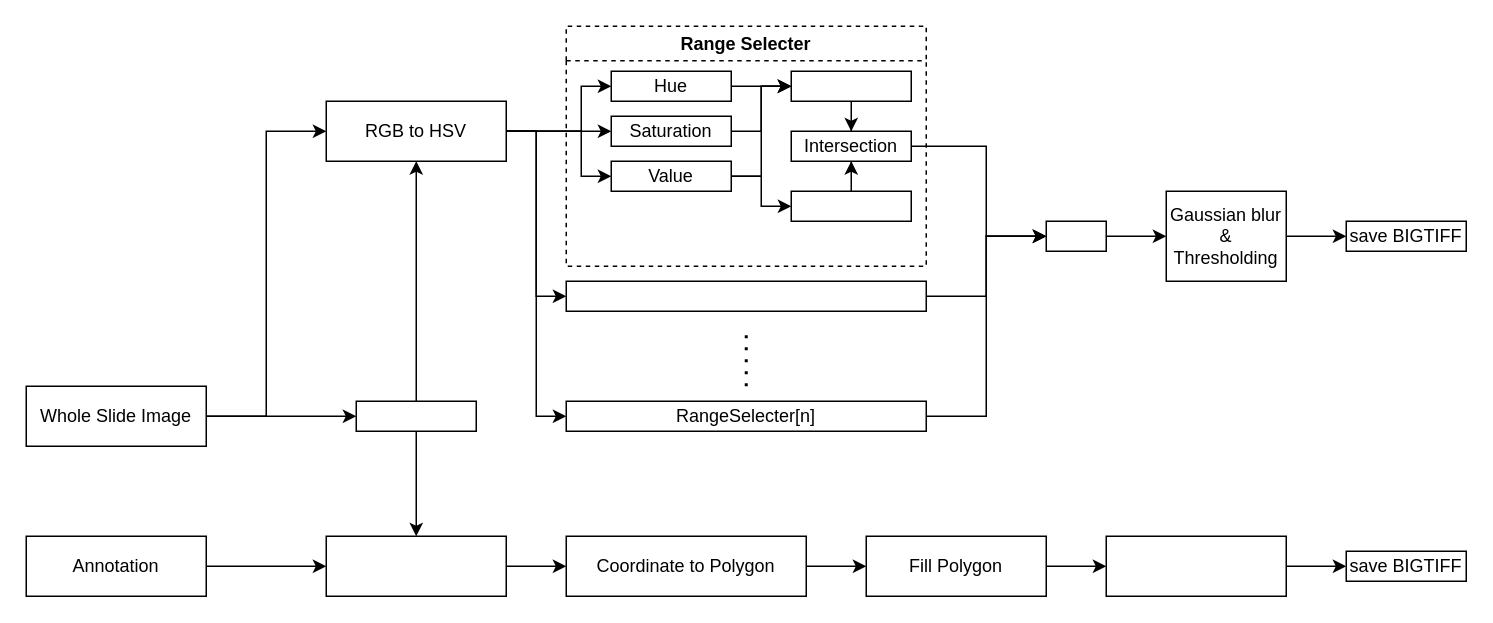
Image size: 1493x623. Some labels were removed from this diagram. Here are the shapes that lost their labels. From the top down, the centre of each, then its label:
At point 850,85: "Color Select".
At point 850,205: "Laplacian".
At point 1075,235: "Union".
At point 745,295: "RangeSelecter[2]".
At point 415,415: "Set ratio".
At point 415,565: "Downsamping".
At point 1195,565: "Merge mask".
